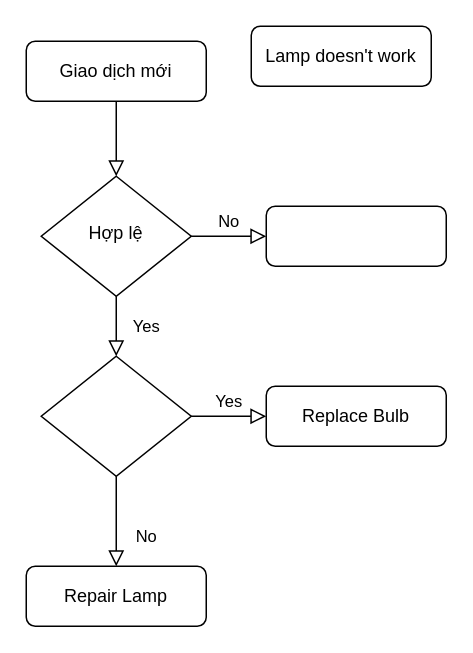
Some shapes in this 473 by 653 pixel diagram are drawn without their labels. Here are the shapes that lost their labels. From the top down, the box of each, then its label:
(265, 205, 446, 266): Plug in lamp
(40, 355, 191, 476): Bulb burned out?
